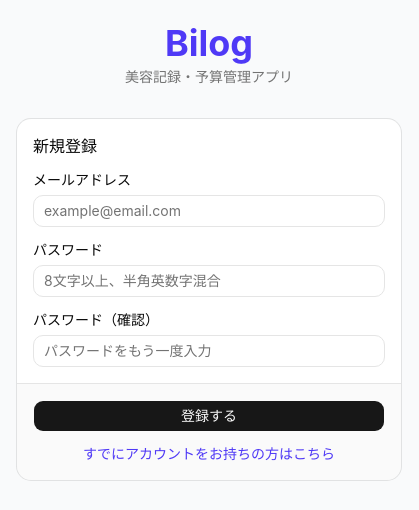
Test: SignUpPage › 登録失敗時にエラーメッセージが表示されること
In the field labelled "メールアドレス": (209, 210) [33,194,385,226], type "test@example.com"
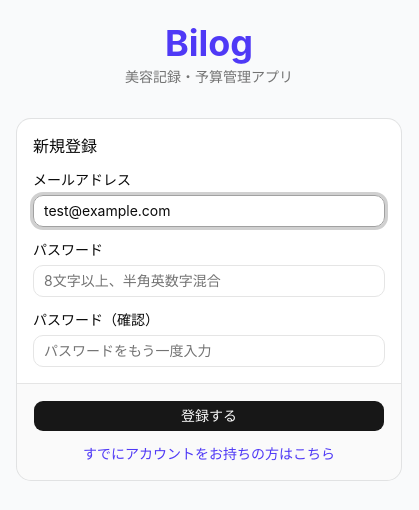
In the password field labelled "パスワード": (209, 280) [33,264,385,296], type "pass1234"
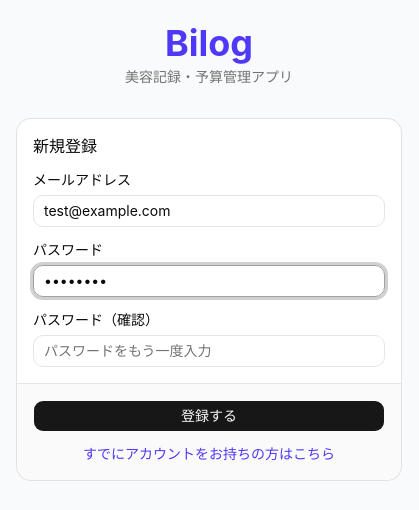
In the password field labelled "パスワード（確認）": (209, 350) [33,334,385,366], type "pass1234"
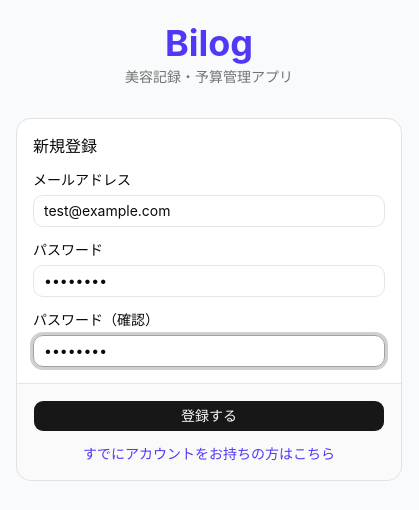
Click the button "登録する": (209, 416) [33,400,385,432]
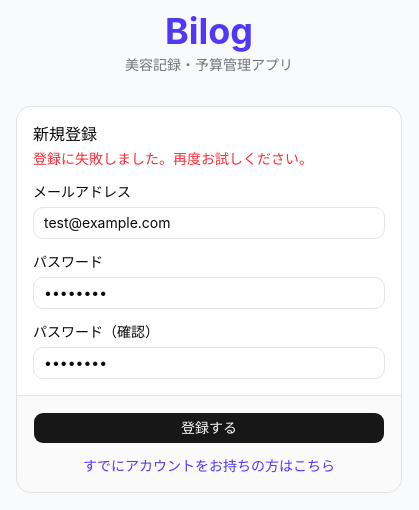
Check: the text "登録に失敗しました。再度お試しください。" is shown, box [33,150,313,166]
